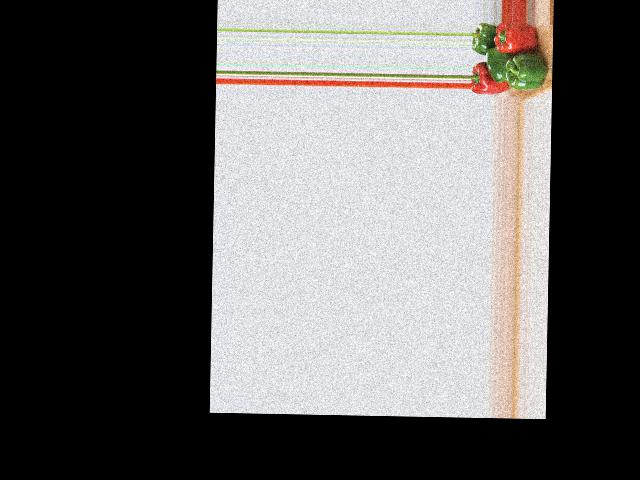bell_pepper: (495, 23, 542, 55)
